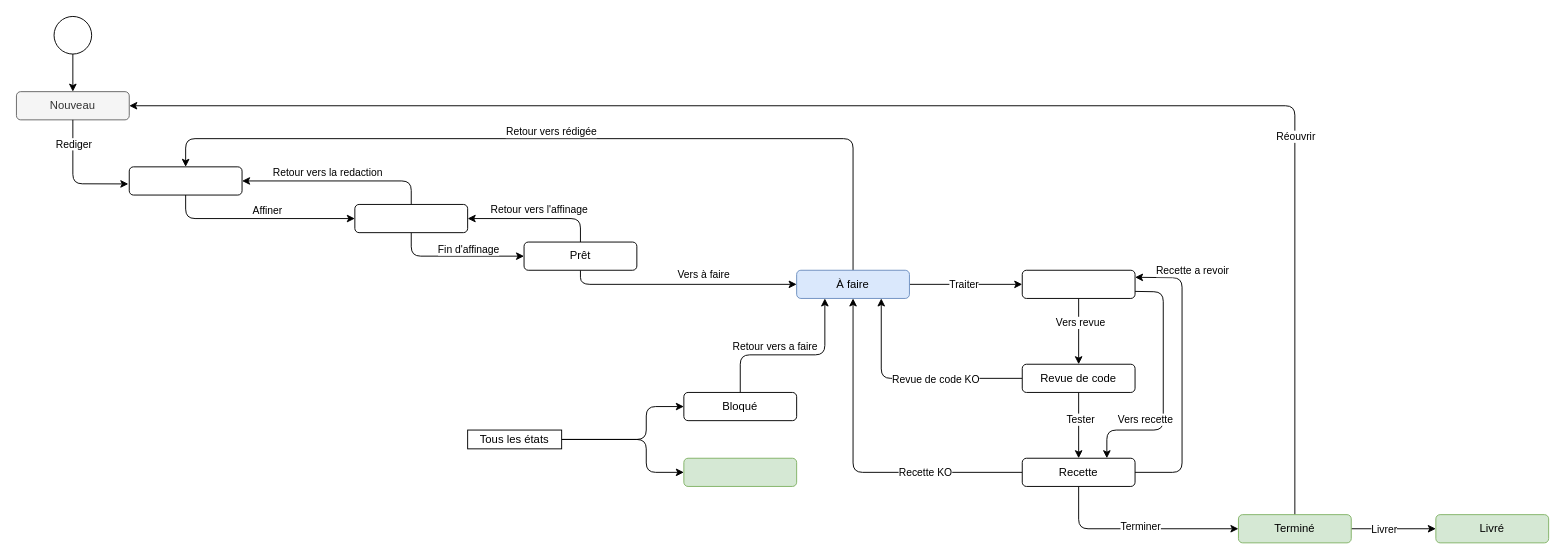
Image size: 1565x559. Some labels were removed from this diagram. The shapes that lost their labels are listed below. From the top down, each one's box as (x1, y1, x2, y2) in pixels, then its label:
(128, 166, 242, 195): Rédigée
(354, 204, 468, 233): Affinage
(1021, 269, 1135, 298): En cours
(683, 457, 797, 486): Abandonné
